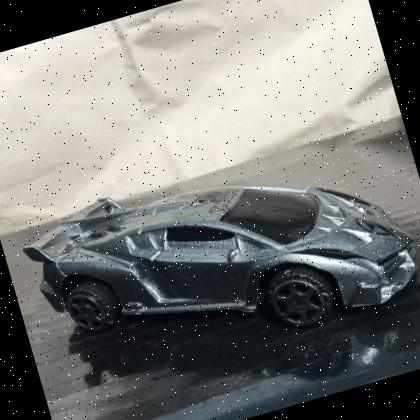Car: (23, 185, 418, 332)
